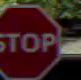Stop: (2, 2, 63, 77)
